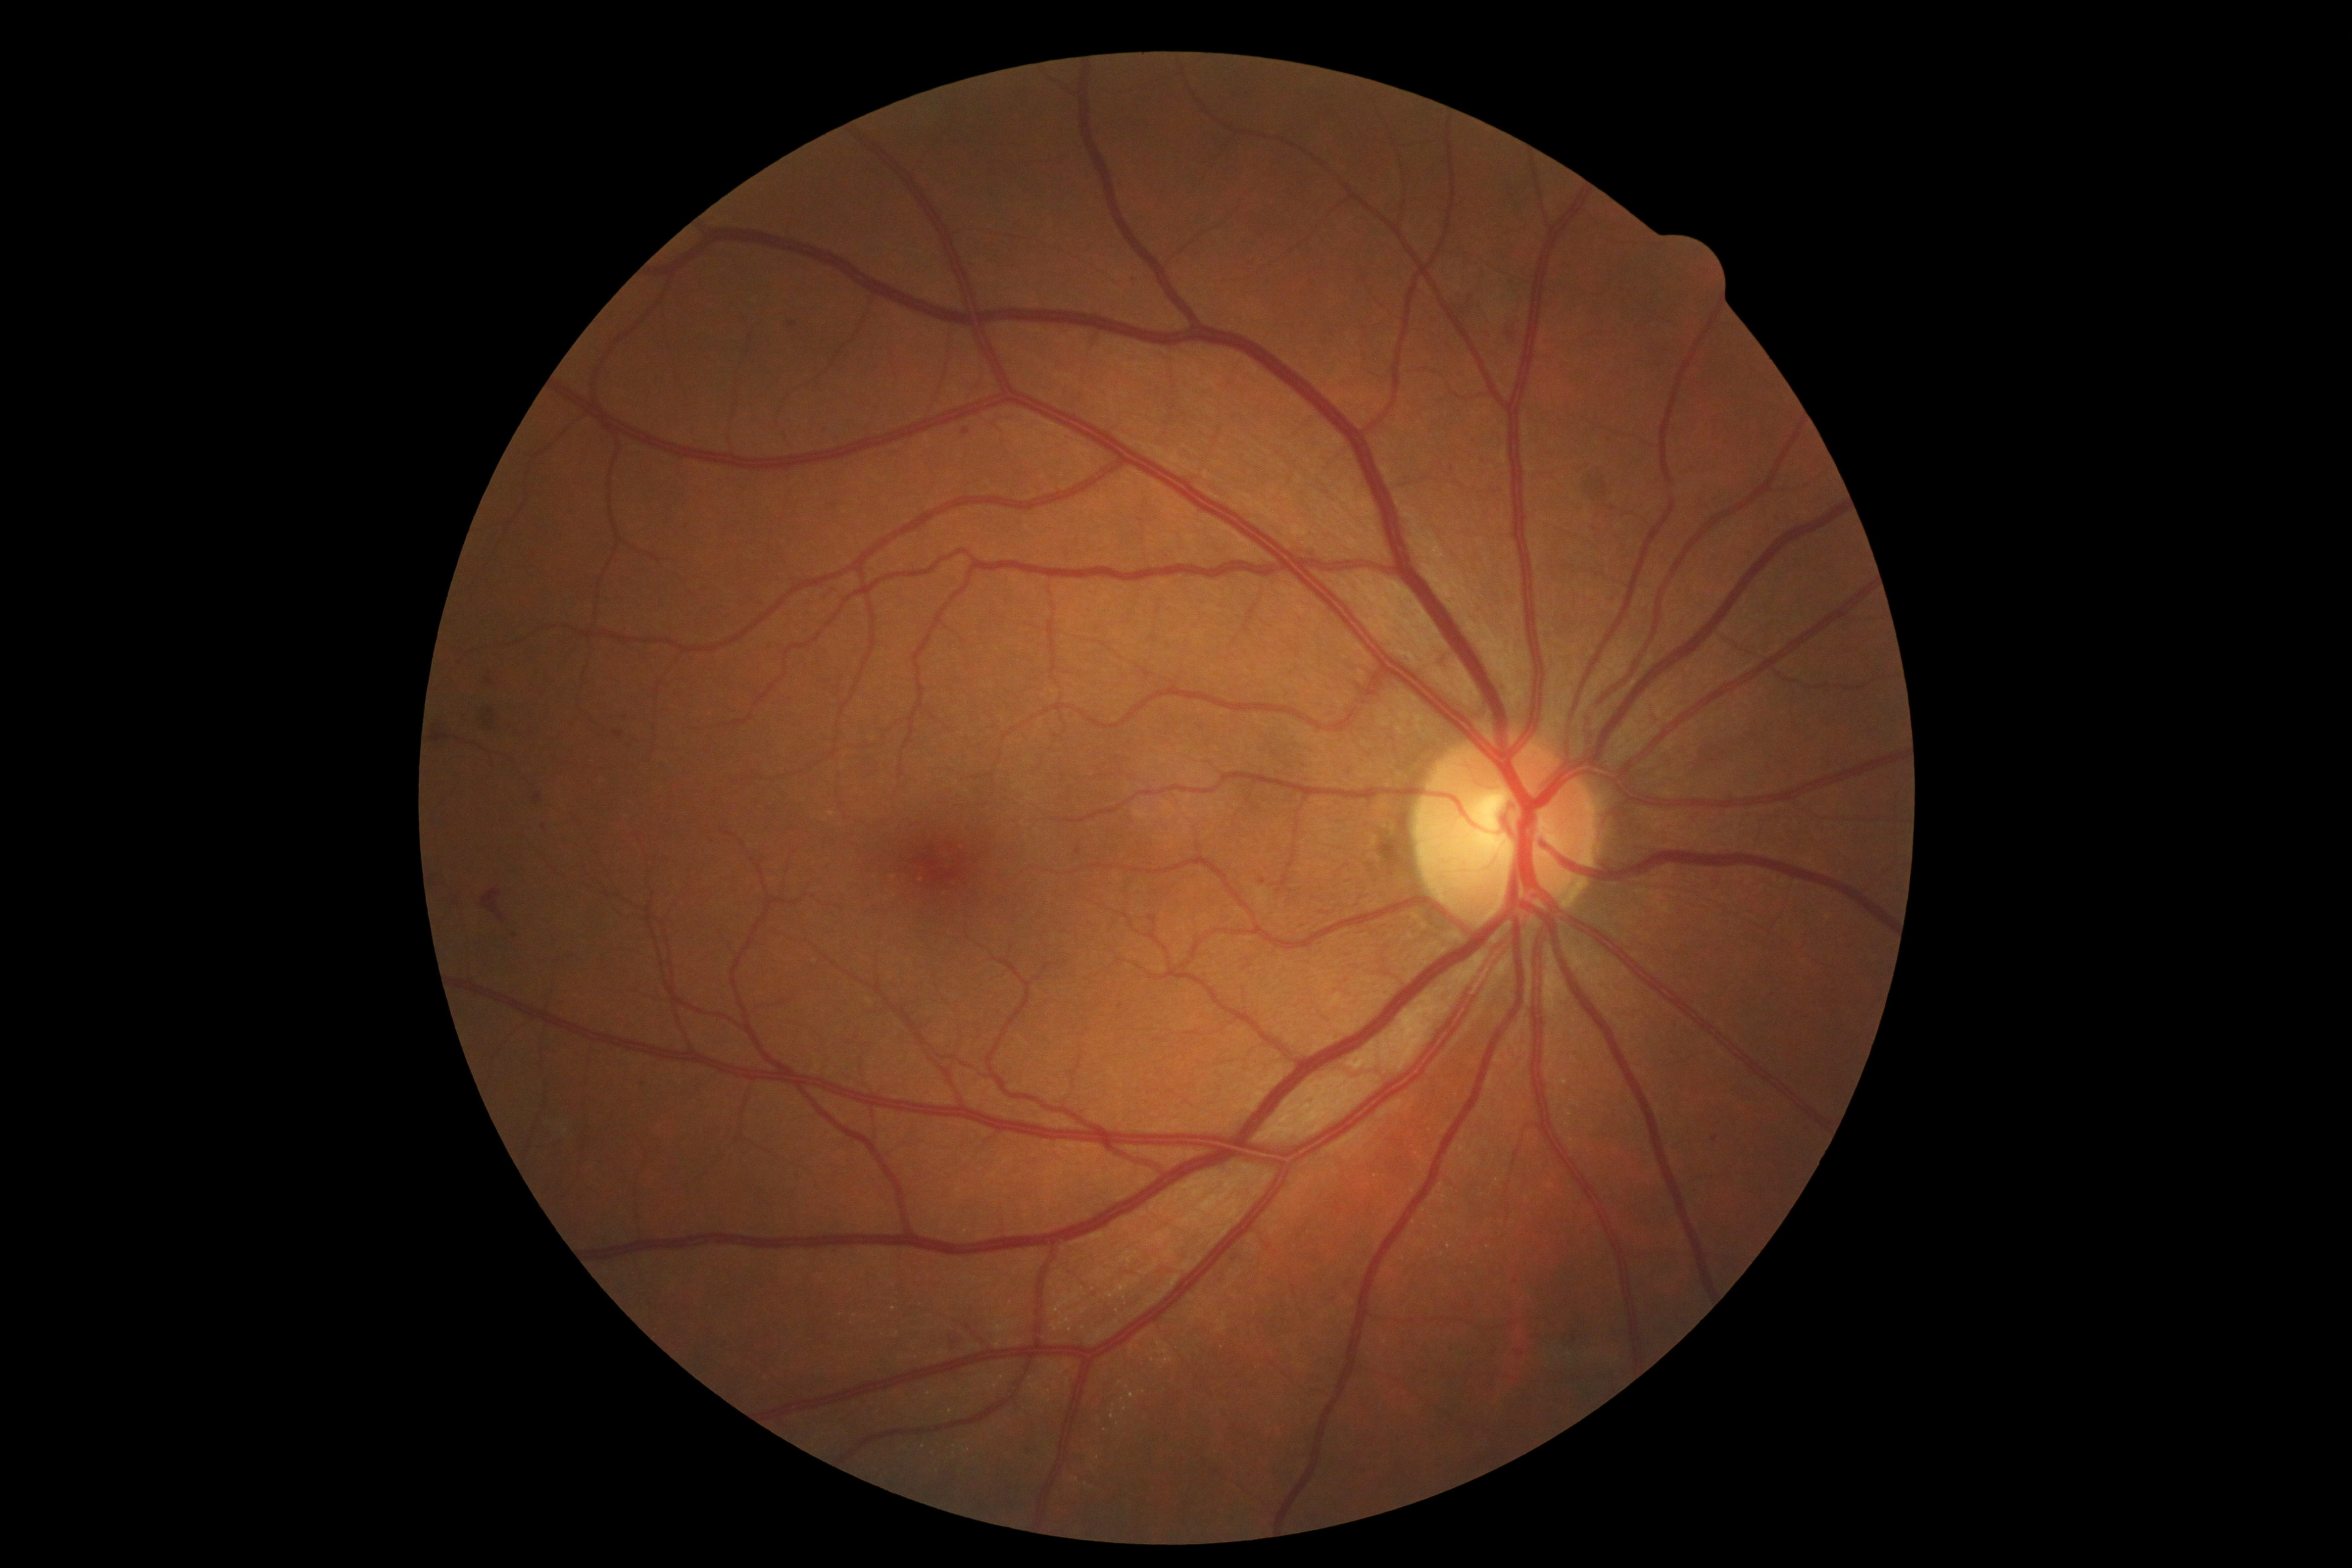Fovea: (864, 789, 1011, 949)
OD: (1402, 717, 1615, 954)
